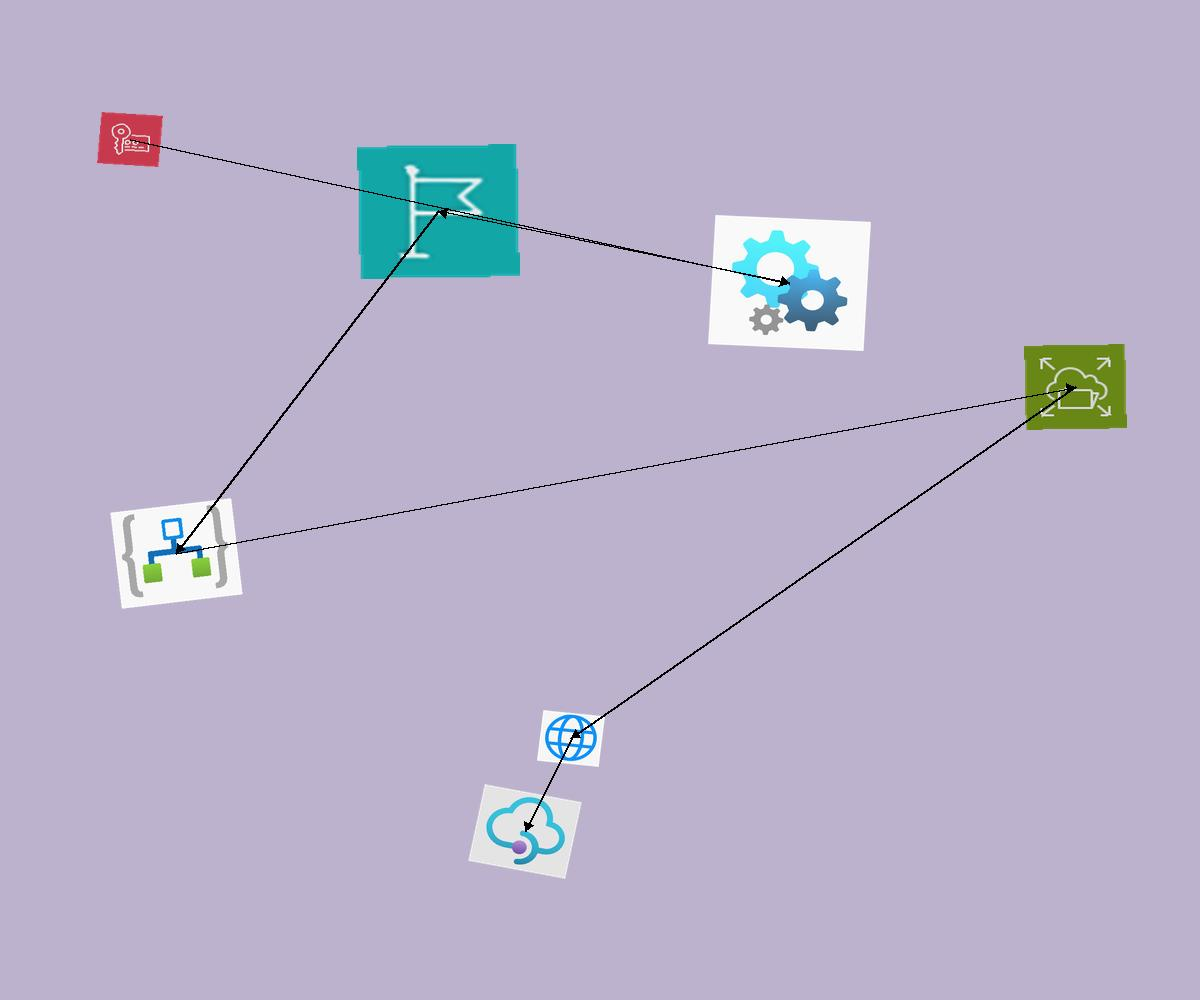AWS-EFS: (1024, 344, 1127, 430)
AWS-Key-Management-Service: (97, 112, 163, 167)
AWS-Region: (357, 144, 520, 279)
Azure_api: (708, 215, 871, 351)
Azure_api_gateway: (468, 784, 582, 879)
Azure_http: (537, 710, 605, 767)
Azure_integration-204-Logic-Apps: (110, 498, 243, 609)
